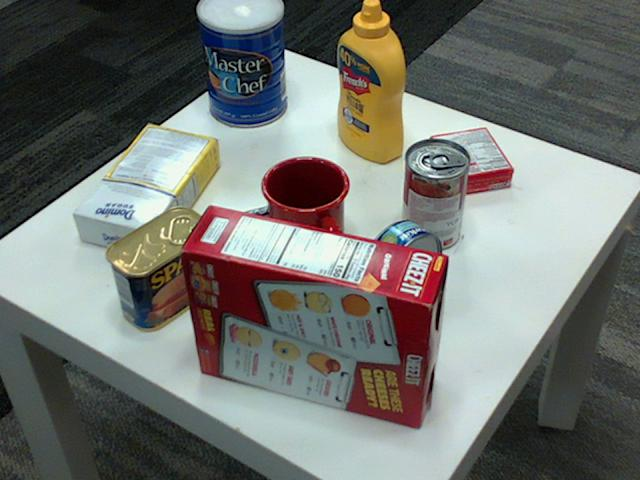cracker_box: (178, 204, 445, 425)
gelatin_box: (430, 127, 515, 194)
large_marker: (196, 198, 303, 242)
master_chef_can: (195, 0, 285, 127)
mug: (261, 153, 350, 260)
mustard_bottle: (337, 0, 404, 162)
potted_meat_can: (106, 206, 212, 331)
sugar_box: (73, 122, 220, 254)
tomato_soup_can: (400, 138, 468, 250)
tuna_fish_can: (359, 219, 442, 307)
